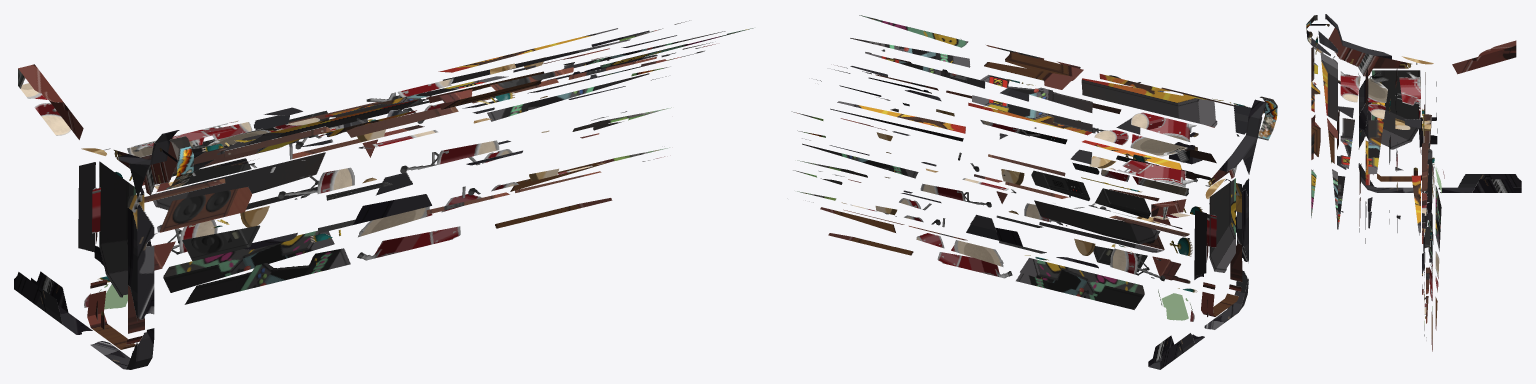
3 renders of one model, left to right at view 1: azimuth 30°, elevation 25°; view 2: azimuth 150°, elevation 25°; view 3: azimuth 270°, elevation 25°, orthographic. The views are drawn at different scales.
Bounding box in the file's own units: 1.75 × 0.7542 × 0.8461.
